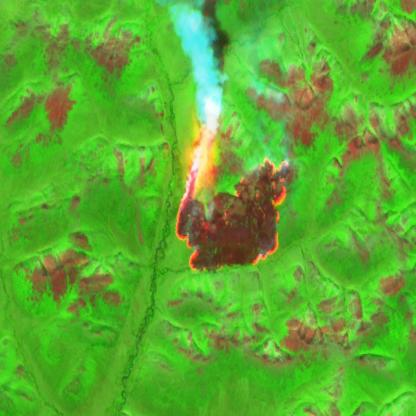fire: (171, 119, 294, 276)
